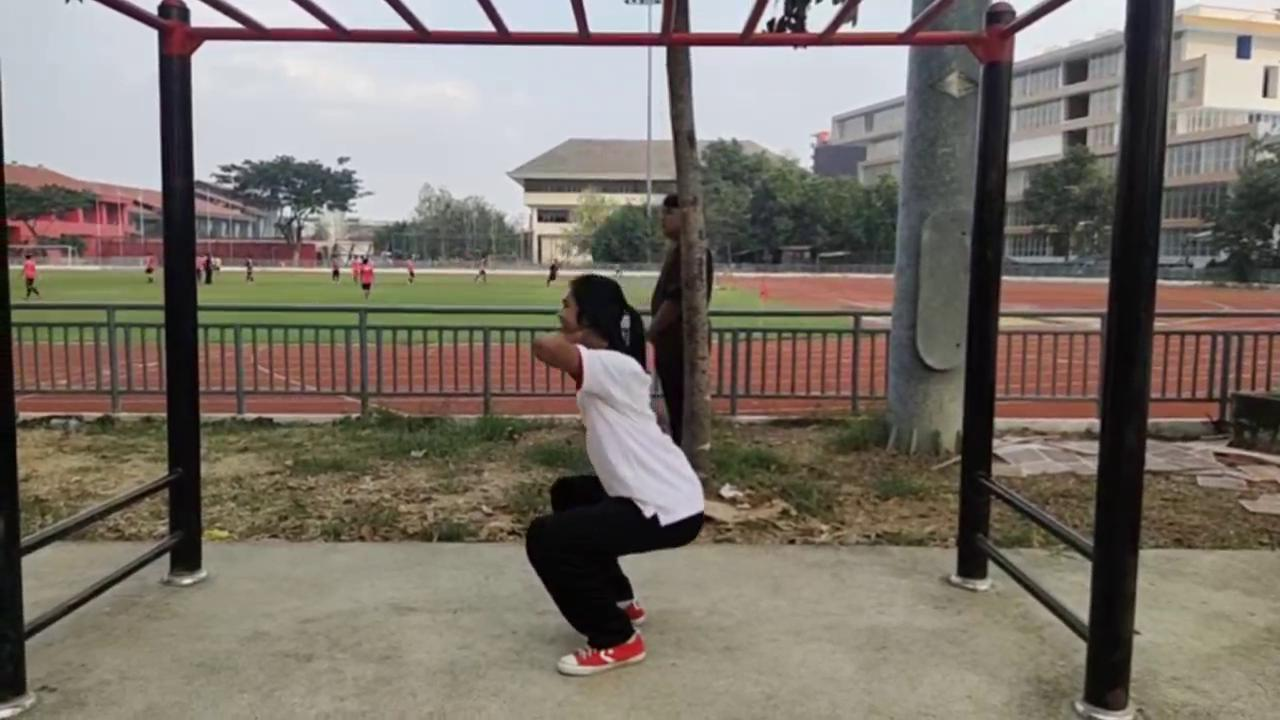squat down: (526, 277, 706, 677)
